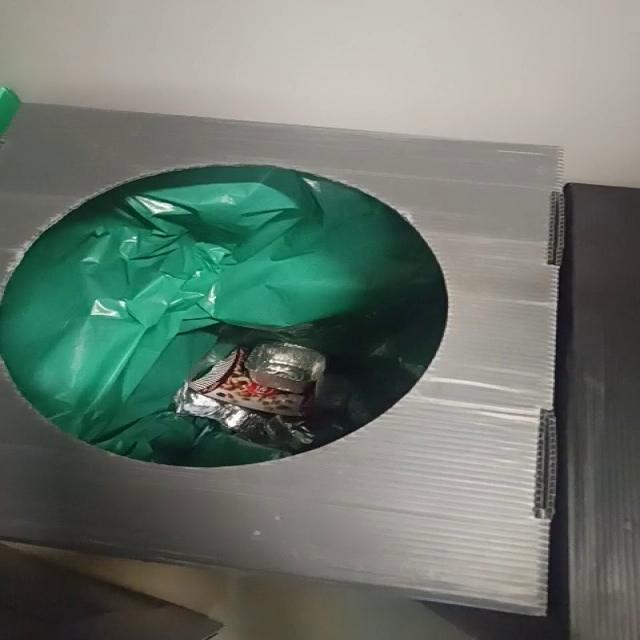bin: (1, 104, 563, 616)
metal: (244, 344, 325, 394)
